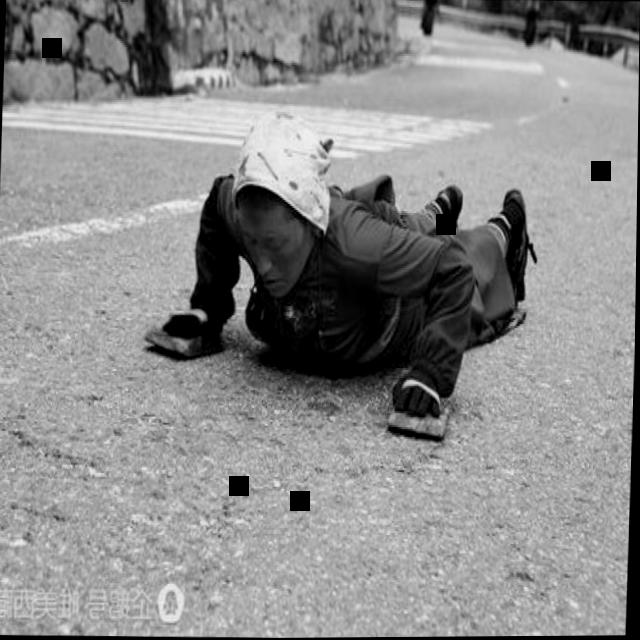Fall-Detected: (155, 92, 536, 453)
